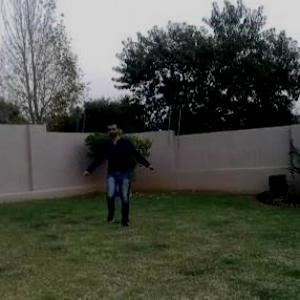land: (77, 108, 155, 234)
